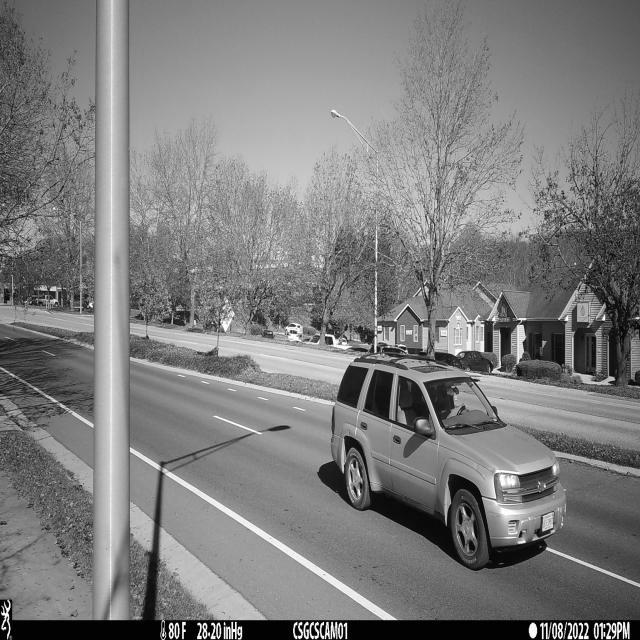SUV: (329, 357, 567, 572)
